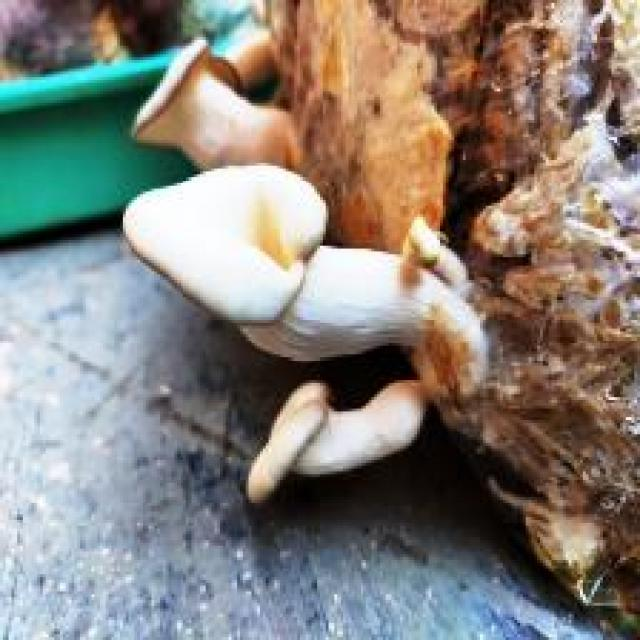chanterelle: (120, 0, 637, 637)
